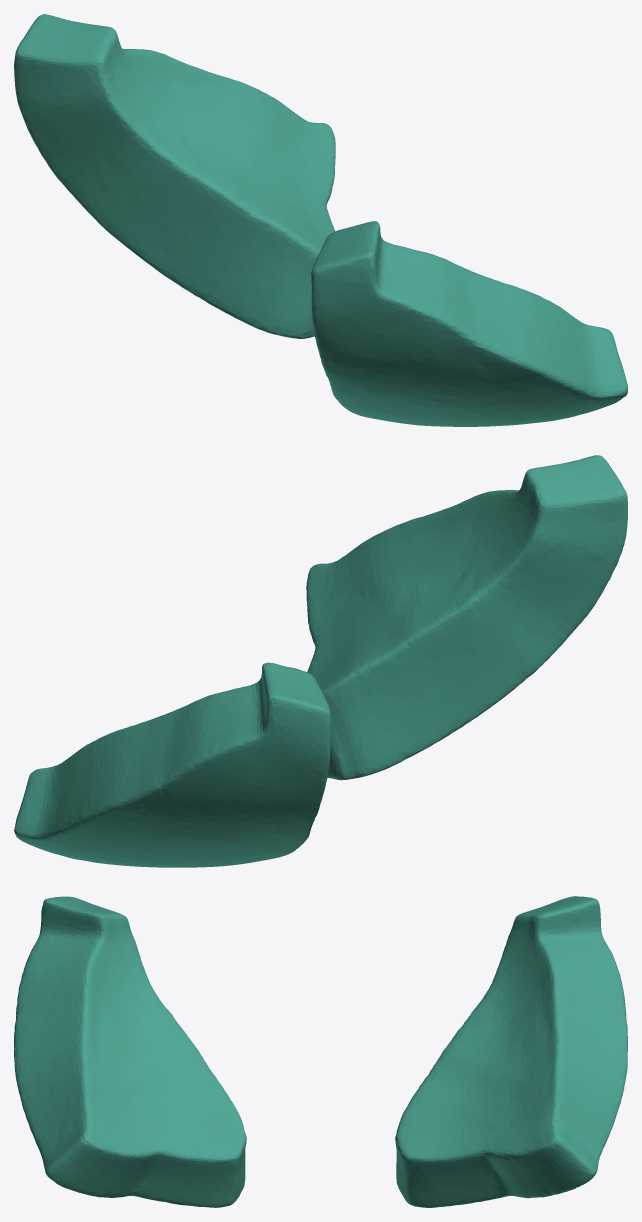
3 views of the same model, one above another, from view 1: azimuth 30°, elevation 25°; view 2: azimuth 150°, elevation 25°; view 3: azimuth 270°, elevation 25° (orthographic). The views are drawn at different scales.
Parts seen in each view (by area): view 1: 322.obj; view 2: 322.obj; view 3: 322.obj.
Part boxes in pixels (box(x1,y1,x2,y2)): 322.obj: box(14, 14, 627, 426); 322.obj: box(14, 455, 627, 867); 322.obj: box(14, 896, 627, 1207).
Size of the model in its own units: 4327 by 3774 by 8899.
